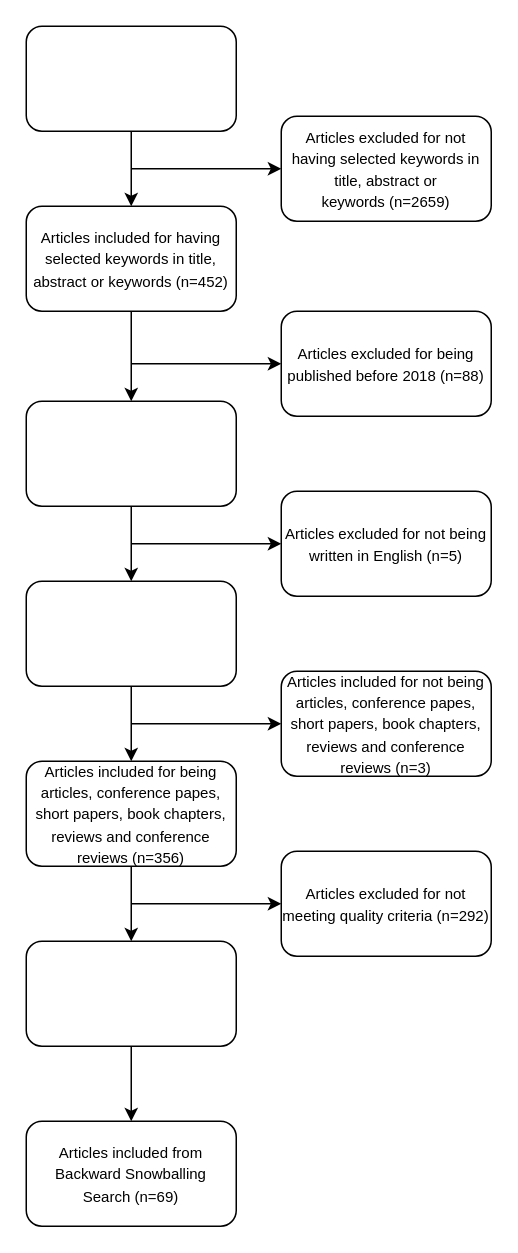
Image size: 518x1253. Some labels were removed from this diagram. Here are the shapes that lost their labels. From the top down, the centre of each, then its label:
[130,78]: Documents identfied through default database search (n=3111 )
[130,453]: Articles included for being published from 2018 onwards (n=364)
[130,633]: Articles included for being written in English (n=359)
[130,993]: Articles included for meeting quality criteria (n=64)
